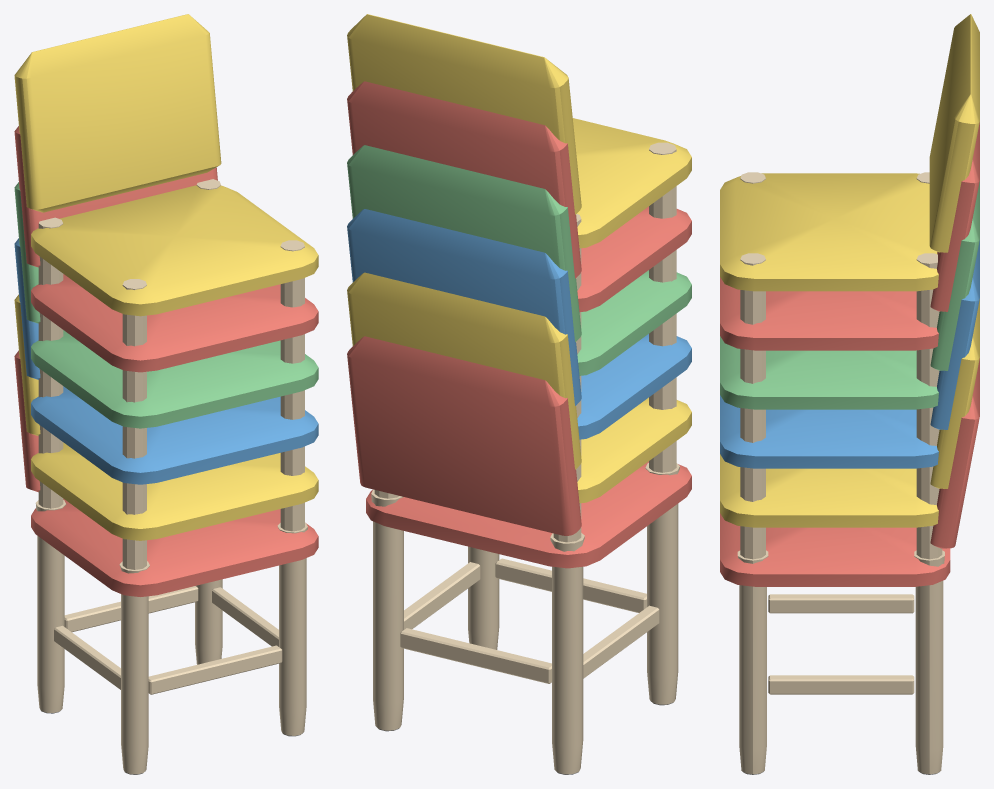
File: nursery-and-primary-classroom-child-chair-stack-six-5332b656__34989.glb
3 renders of one model, left to right at view 1: azimuth 30°, elevation 25°; view 2: azimuth 150°, elevation 25°; view 3: azimuth 270°, elevation 25°, orthographic. The views are drawn at different scales.
Visible parts, largest first — view 1: child-chair-stack-six; view 2: child-chair-stack-six; view 3: child-chair-stack-six.
Boxes of the visible parts, left/top/right/bottom form: child-chair-stack-six: left=14, top=14, right=318, bottom=774; child-chair-stack-six: left=347, top=14, right=691, bottom=774; child-chair-stack-six: left=720, top=14, right=979, bottom=774.
Bounding box in the file's own units: 0.32 × 0.9718 × 0.3386.
